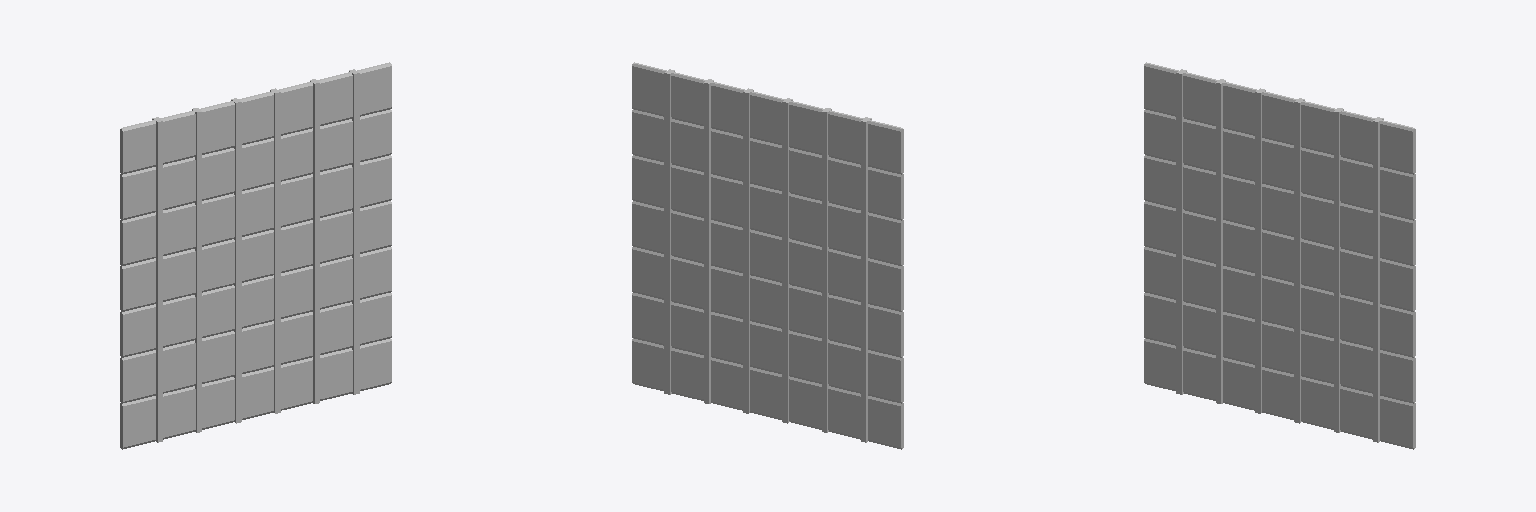
File: Door.obj
The picture shows the model from 3 angles: view 1: azimuth 30°, elevation 25°; view 2: azimuth 150°, elevation 25°; view 3: azimuth 330°, elevation 25°; orthographic projection.
Parts seen in each view (by area): view 1: Door_Door_Cube.002; view 2: Door_Door_Cube.002; view 3: Door_Door_Cube.002.
Part boxes in pixels (left/top/right/bottom): Door_Door_Cube.002: left=120, top=62, right=391, bottom=449; Door_Door_Cube.002: left=632, top=62, right=903, bottom=449; Door_Door_Cube.002: left=1144, top=62, right=1415, bottom=449.
Size of the model in its own units: 24 by 27.3 by 0.8.